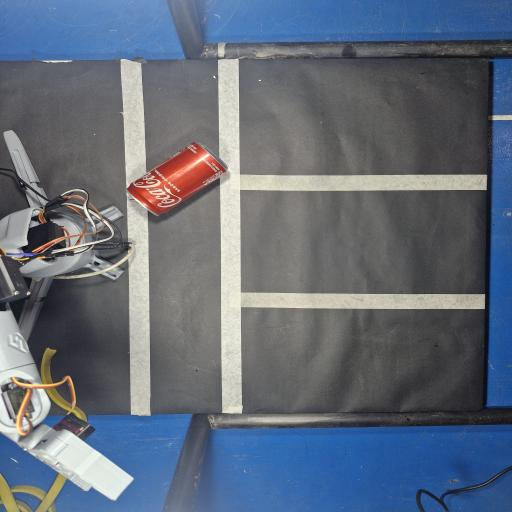lata: (127, 142, 227, 215)
